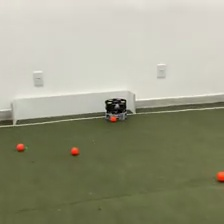ball: (215, 168, 224, 183), (15, 141, 25, 151), (70, 145, 79, 155), (109, 114, 117, 122)
goal: (10, 89, 136, 127)
robot: (104, 97, 129, 121)
